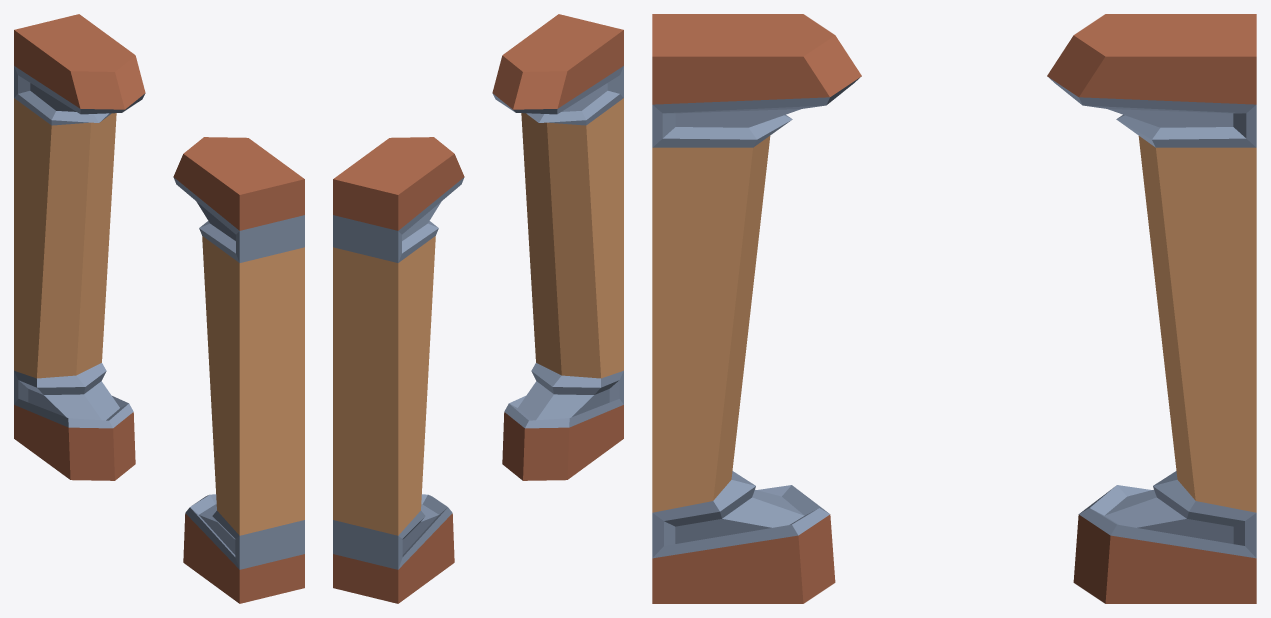
File: doorbase.fbx
3 views of the same model, side by side, from view 1: azimuth 30°, elevation 25°; view 2: azimuth 150°, elevation 25°; view 3: azimuth 270°, elevation 25° (orthographic). The views are drawn at different scales.
Parts seen in each view (by area): view 1: Cube.016; view 2: Cube.016; view 3: Cube.016.
Boxes of the visible parts, x1,y1,x2,y2 form: Cube.016: [14, 14, 304, 603]; Cube.016: [333, 14, 623, 603]; Cube.016: [652, 14, 1256, 603].
Size of the model in its own units: 213 by 1200 by 1200.
